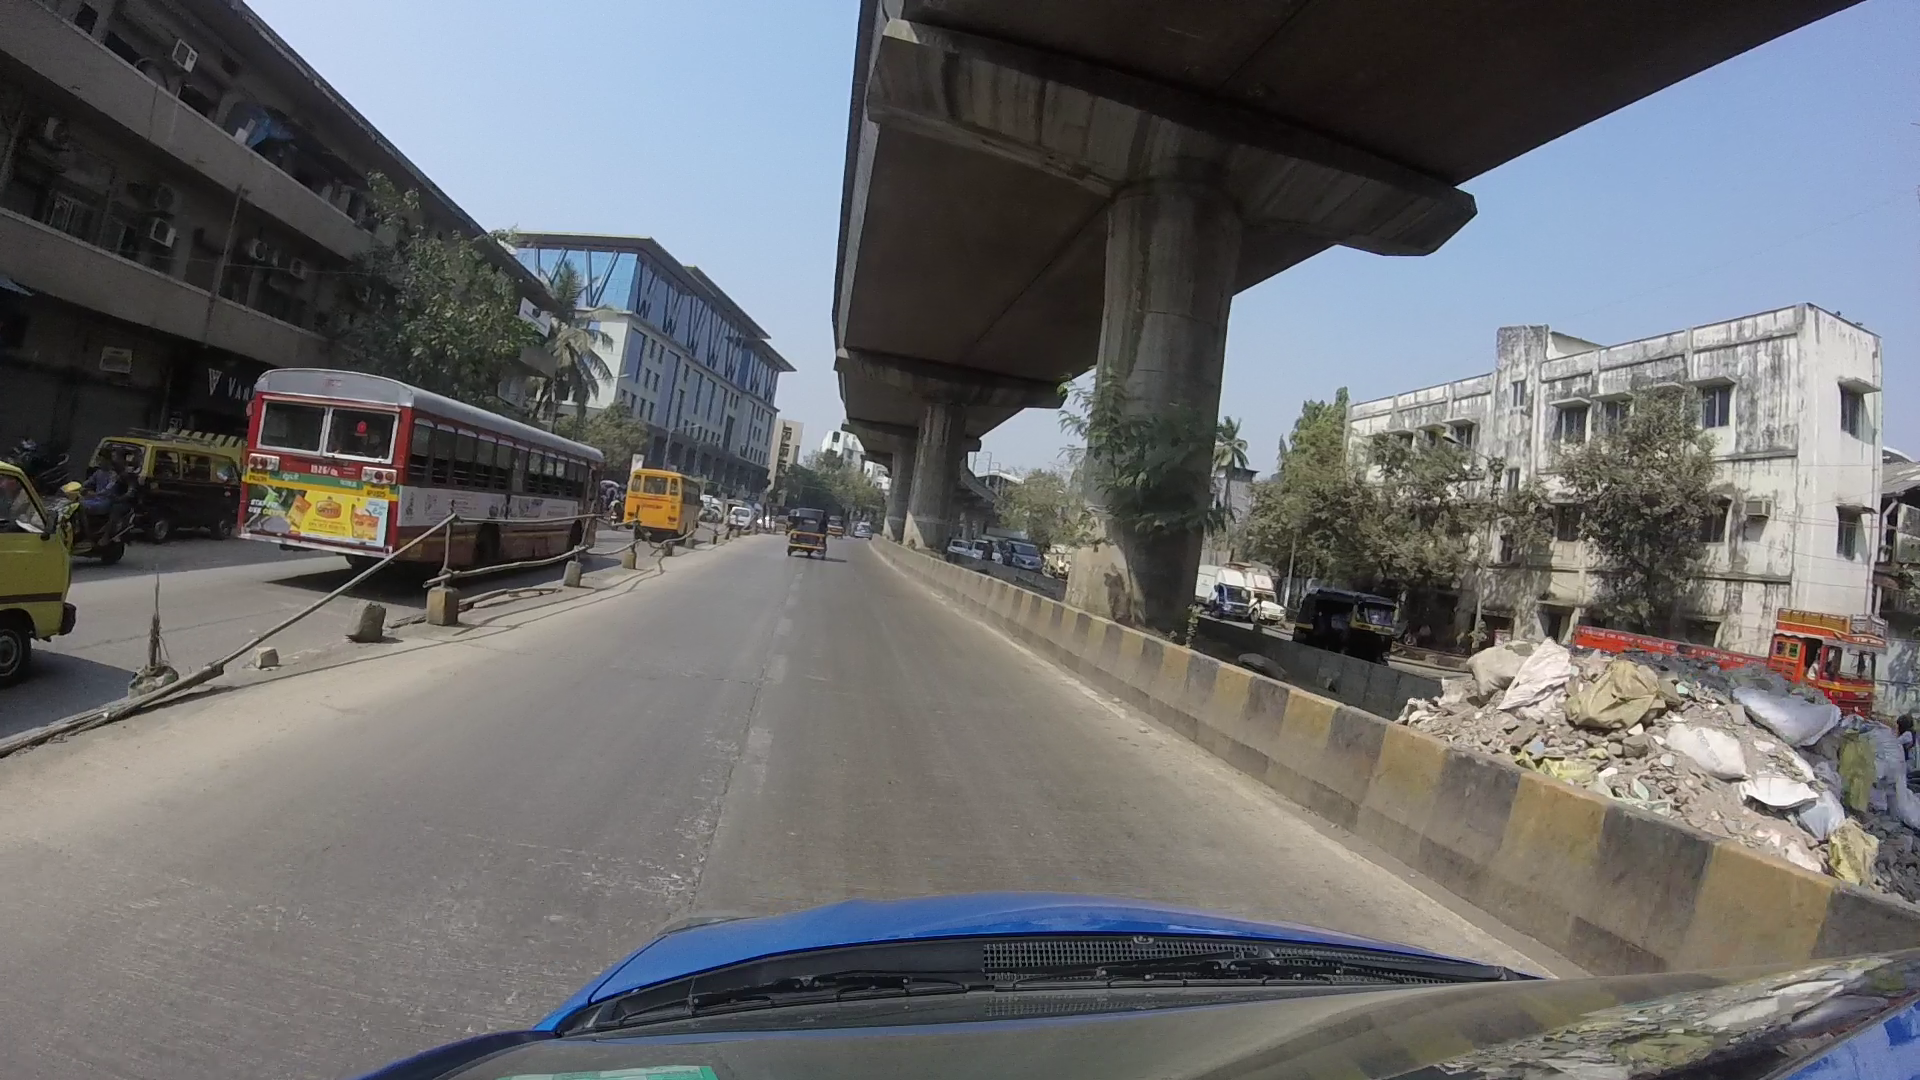bus: (237, 338, 616, 603), (622, 446, 736, 560)
car: (1, 462, 73, 684)
rickshaw: (777, 473, 843, 568)
